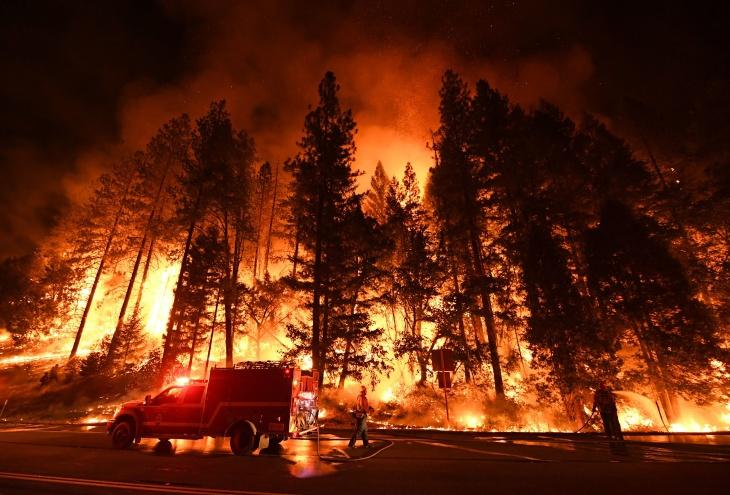victim: (584, 374, 634, 455), (345, 382, 380, 455)
